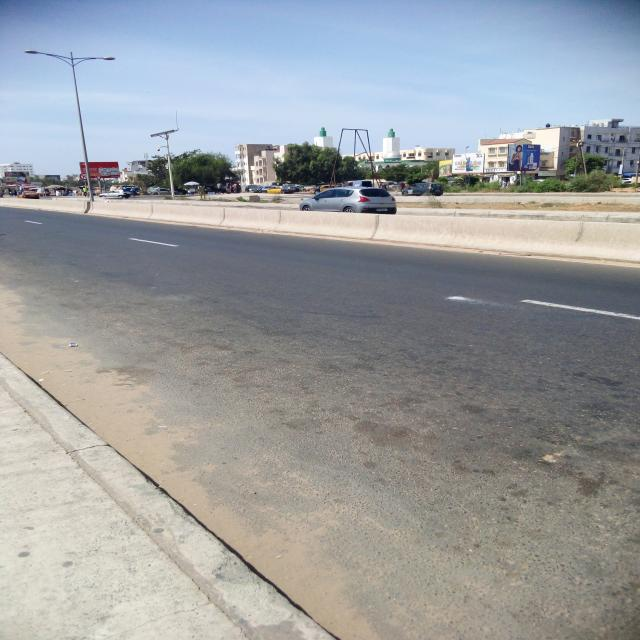particulier: (299, 189, 398, 216), (403, 184, 444, 197), (99, 191, 133, 200), (246, 186, 259, 194)
taxi: (268, 186, 296, 195), (19, 190, 41, 200), (316, 186, 336, 194)
